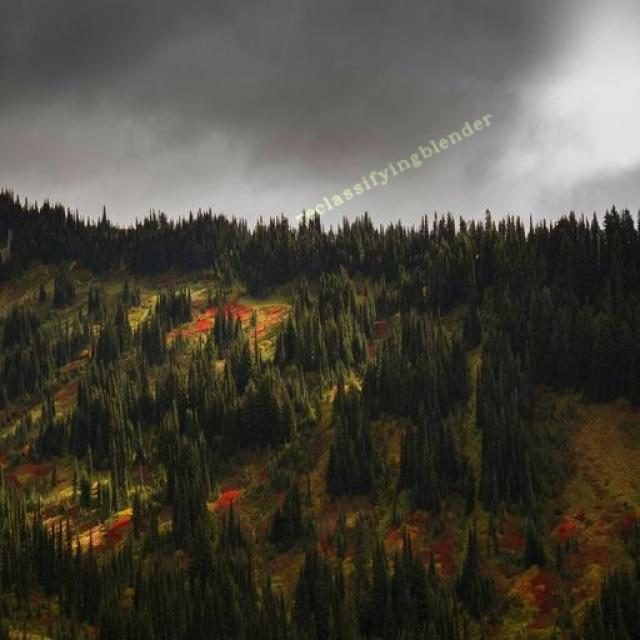watermark: (292, 106, 494, 228)
